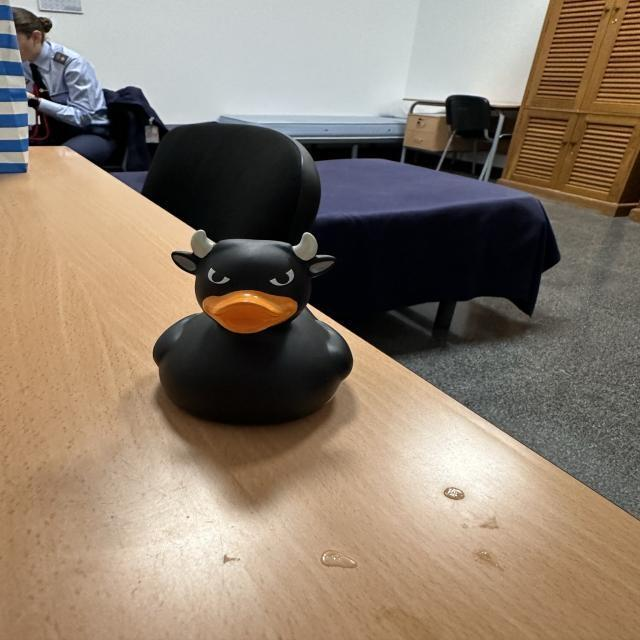rubber-duck: (152, 229, 351, 421)
